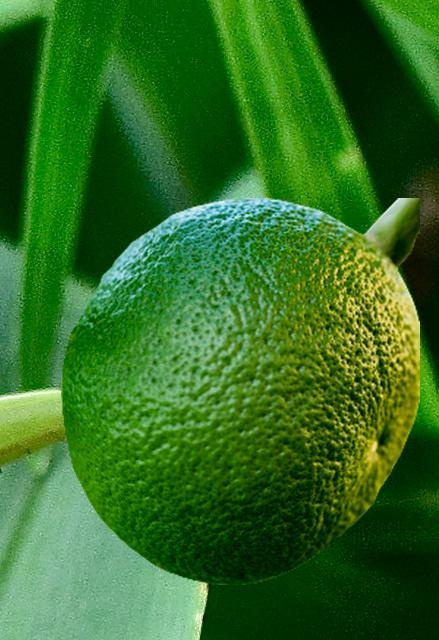dalandan: (61, 198, 418, 583)
